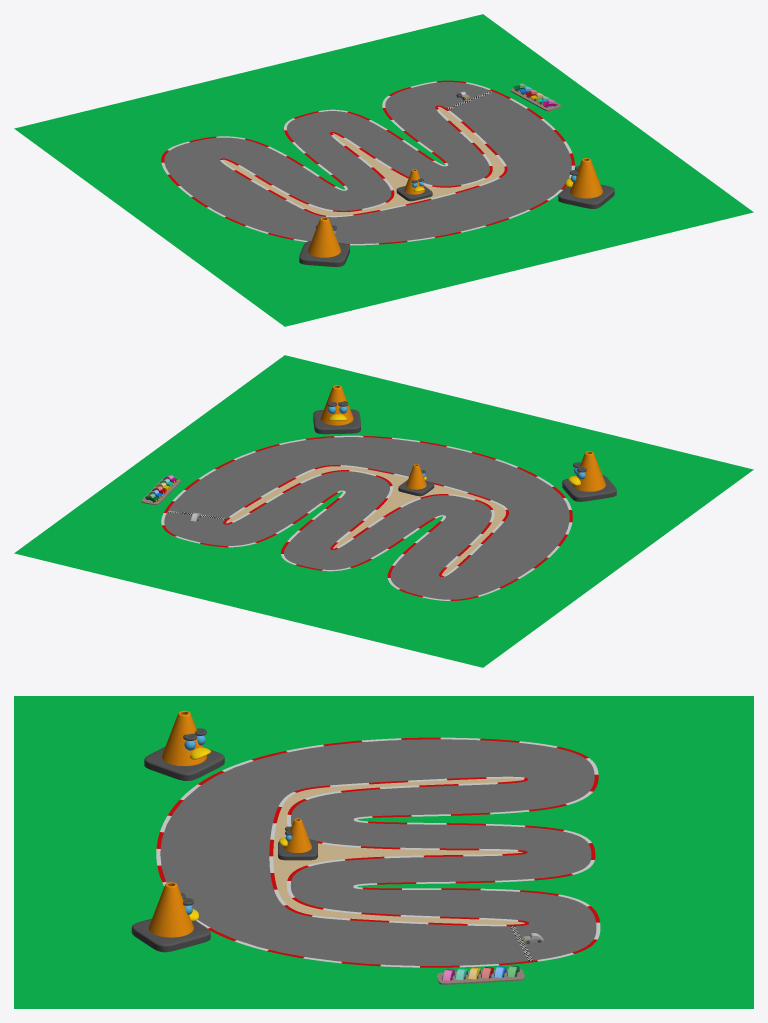
Rendered from Track006_MiniComb.fbx.
3 views of the same model, one above another, from view 1: azimuth 30°, elevation 25°; view 2: azimuth 150°, elevation 25°; view 3: azimuth 270°, elevation 25° (orthographic). The views are drawn at different scales.
Visible parts, largest first — view 1: Ground.001, Track, Island_00, BigConeTop.003, BigConeTop.002, BigConeBase.003, BigConeBase.002; view 2: Ground.001, Track, Island_00, BigConeTop.003, BigConeBase.002, BigConeBase.003, BigConeTop.002; view 3: Ground.001, Track, Island_00, BigConeTop.002, BigConeTop.003, BigConeBase.002, BigConeBase.003, VehicleRoad, BigConeTop.001.
Part boxes in pixels (x1,y1,x2,y2): Ground.001: (14, 14, 753, 326); Track: (164, 82, 571, 243); Island_00: (223, 106, 504, 215); BigConeTop.003: (308, 217, 340, 257); BigConeTop.002: (570, 158, 602, 198); BigConeBase.003: (299, 241, 349, 266); BigConeBase.002: (558, 184, 614, 208); Ground.001: (14, 355, 753, 667); Track: (164, 437, 569, 599); Island_00: (226, 466, 505, 575); BigConeTop.003: (573, 451, 605, 491); BigConeBase.002: (313, 409, 360, 434); BigConeBase.003: (562, 474, 616, 501); BigConeTop.002: (320, 385, 353, 425); Ground.001: (14, 696, 753, 1008); Track: (160, 739, 596, 965); Island_00: (273, 778, 524, 924); BigConeTop.002: (148, 882, 193, 937); BigConeTop.003: (162, 710, 206, 766); BigConeBase.002: (131, 918, 210, 952); BigConeBase.003: (144, 747, 224, 780); VehicleRoad: (437, 968, 524, 984); BigConeTop.001: (283, 818, 311, 852).
Bounding box in the file's own units: 227 × 227 × 17.31.
